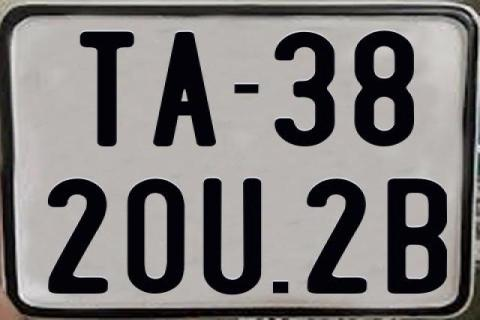0: (47, 176, 112, 294), (351, 30, 415, 146), (273, 30, 336, 146), (126, 177, 186, 295), (305, 179, 365, 297)
A: (151, 32, 215, 147)
B: (386, 177, 446, 295)
T: (80, 29, 136, 145)
U: (202, 178, 261, 296)
